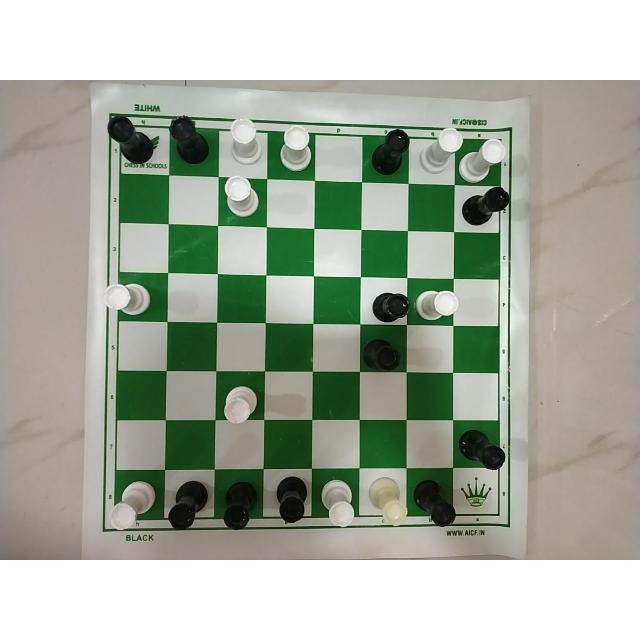black-rook: (102, 114, 154, 169), (458, 424, 510, 472), (412, 477, 460, 528), (165, 480, 211, 532), (168, 116, 212, 170), (368, 127, 409, 177), (273, 475, 311, 528), (459, 187, 511, 225), (220, 482, 258, 534), (361, 337, 407, 376), (370, 286, 414, 326)
white-rook: (108, 478, 156, 532), (100, 276, 160, 319), (318, 472, 358, 529), (417, 124, 461, 174), (366, 476, 408, 527), (460, 138, 508, 180), (222, 380, 264, 427), (220, 175, 262, 221), (413, 286, 461, 325), (278, 125, 314, 173), (227, 117, 262, 166)
